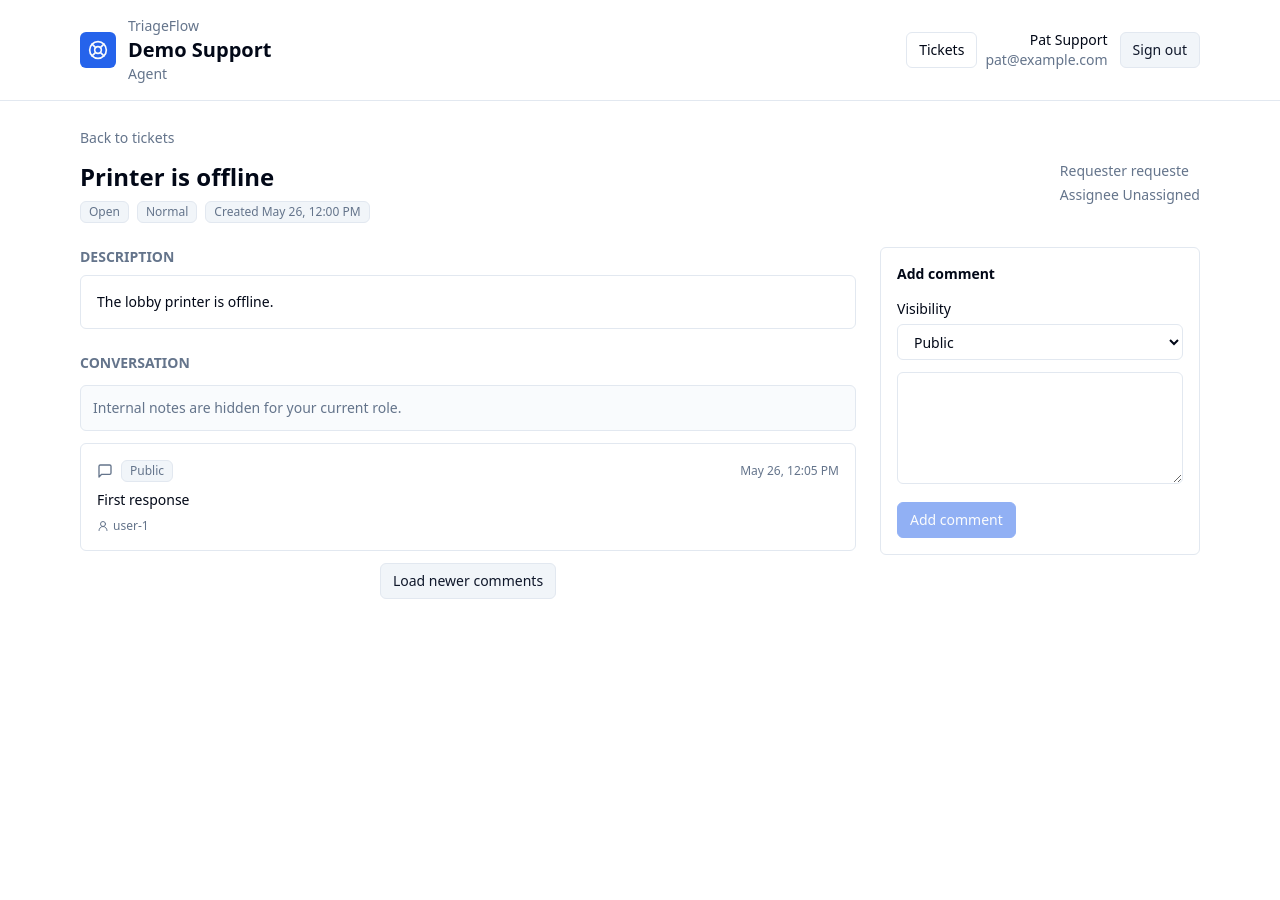
permission-aware ticket UI › loads the next cursor page in the comment timeline
Expected: the text "First response" is shown, [97,490,190,509]
Click the button "Load newer comments": (468, 581) [380,563,556,599]
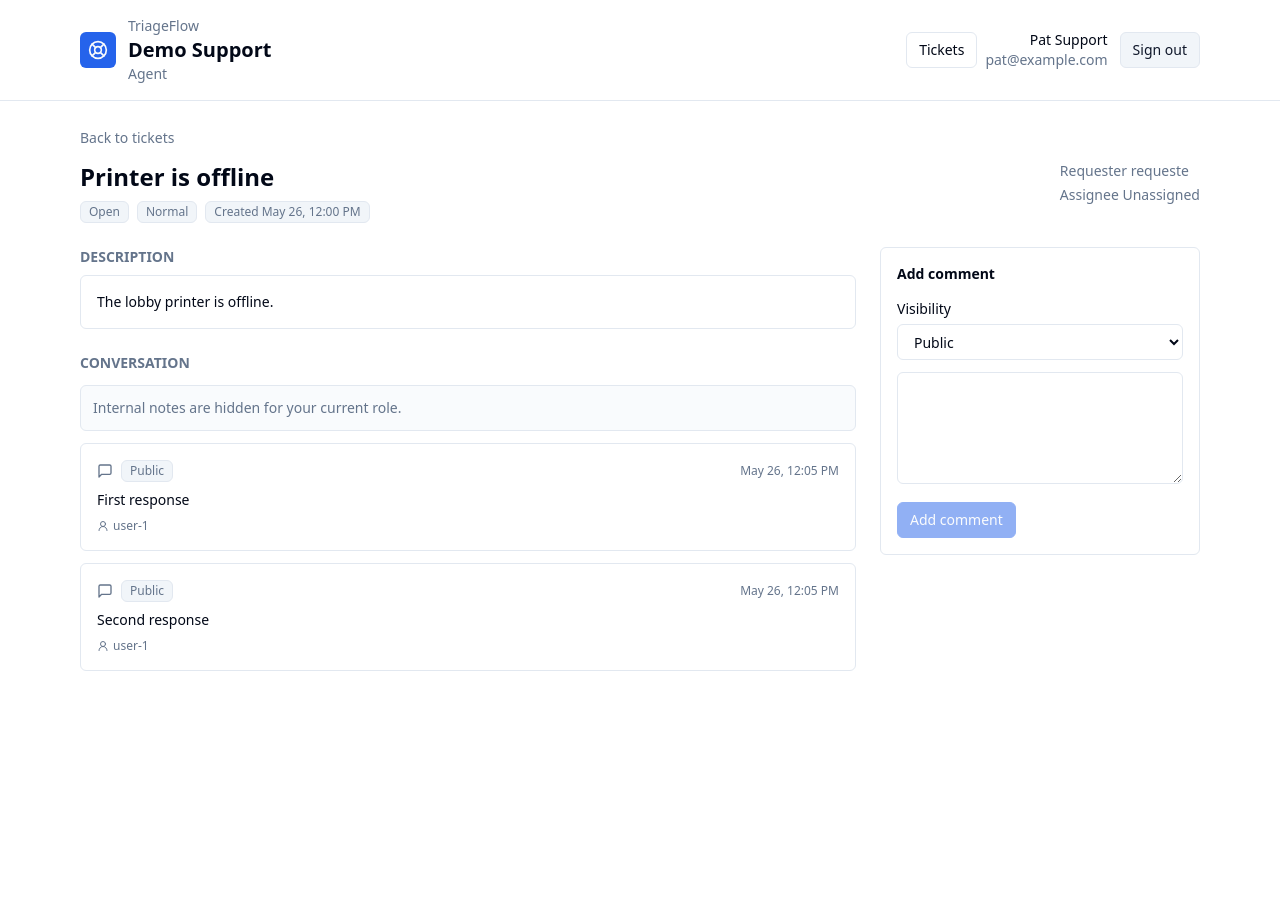
Expected: the text "Second response" is shown, [97,610,209,629]
